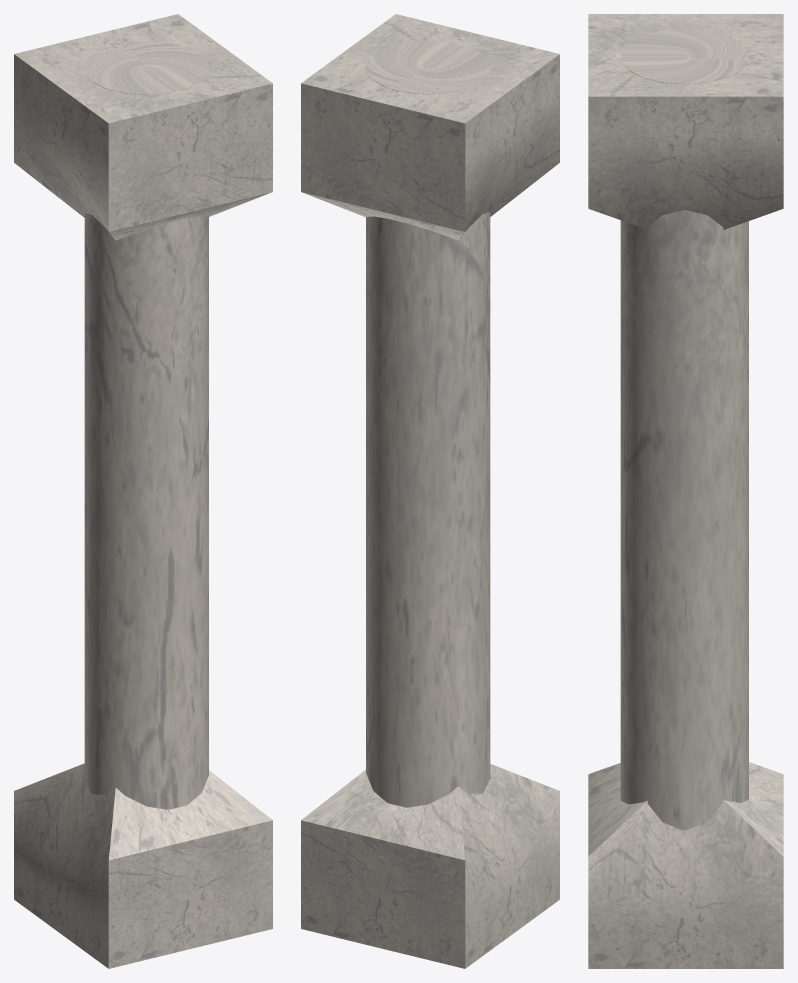
Rendered from Column.fbx.
The picture shows the model from 3 angles, left to right: view 1: azimuth 30°, elevation 25°; view 2: azimuth 150°, elevation 25°; view 3: azimuth 270°, elevation 25°; orthographic projection. The views are drawn at different scales.
Parts seen in each view (by area): view 1: Cylinder001, Box001, Box002; view 2: Cylinder001, Box001, Box002; view 3: Cylinder001, Box002, Box001.
Part boxes in pixels (x1,y1,x2,y2): Cylinder001: [84, 41, 208, 809]; Box001: [14, 763, 272, 968]; Box002: [14, 14, 272, 240]; Cylinder001: [366, 40, 490, 807]; Box001: [301, 764, 559, 968]; Box002: [301, 14, 559, 240]; Cylinder001: [620, 29, 748, 830]; Box002: [588, 14, 783, 229]; Box001: [588, 762, 783, 968].
Size of the model in its own units: 12 by 59.07 by 12.
1 material, 1 textured.
